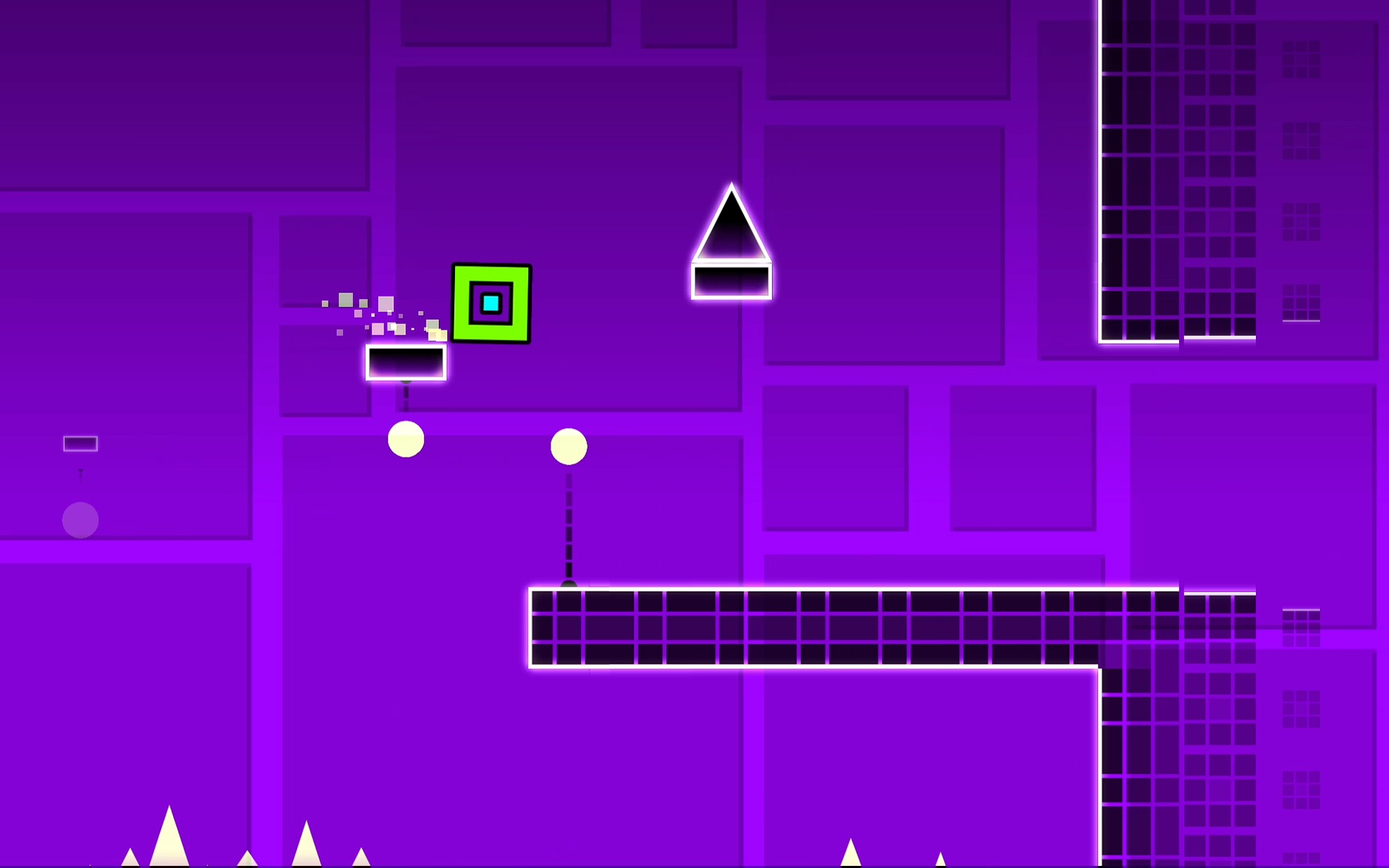Block2: (1105, 9, 1263, 338), (529, 584, 1102, 660), (1105, 596, 1263, 868)
Block3: (691, 265, 773, 302), (365, 345, 447, 380)
Player: (453, 264, 534, 342)
Spike: (692, 184, 770, 264)
